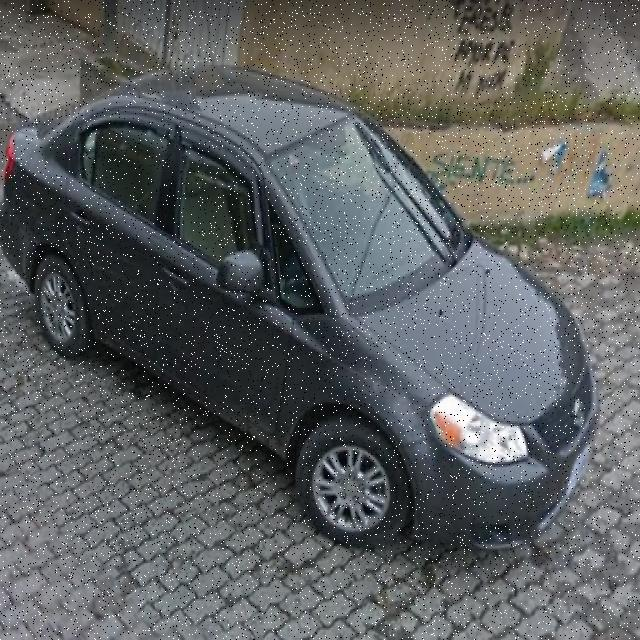cars: (4, 27, 608, 580)
